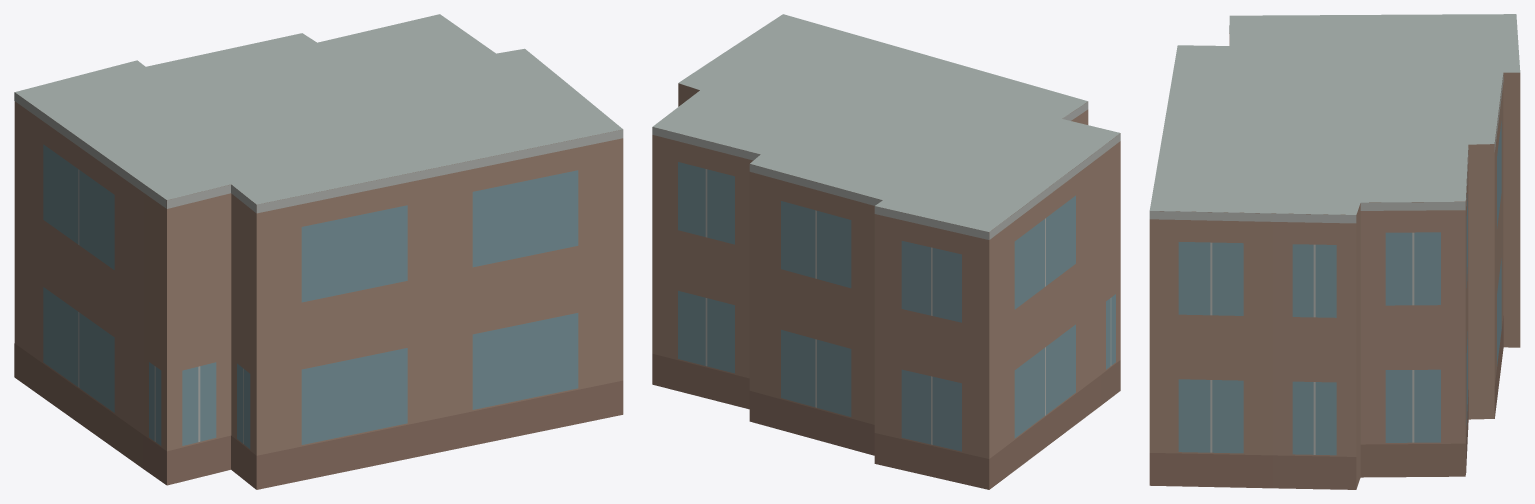
The model's file is survey-upis-32493556.glb.
3 renders of one model, left to right at view 1: azimuth 30°, elevation 25°; view 2: azimuth 150°, elevation 25°; view 3: azimuth 270°, elevation 25°, orthographic. The views are drawn at different scales.
Parts seen in each view (by area): view 1: survey-upis-32493556.tmp; view 2: survey-upis-32493556.tmp; view 3: survey-upis-32493556.tmp.
Boxes of the visible parts, x1,y1,x2,y2 form: survey-upis-32493556.tmp: [14, 14, 623, 489]; survey-upis-32493556.tmp: [652, 14, 1120, 489]; survey-upis-32493556.tmp: [1149, 14, 1520, 489].
Bounding box in the file's own units: 12.4 × 7.9 × 9.67.
